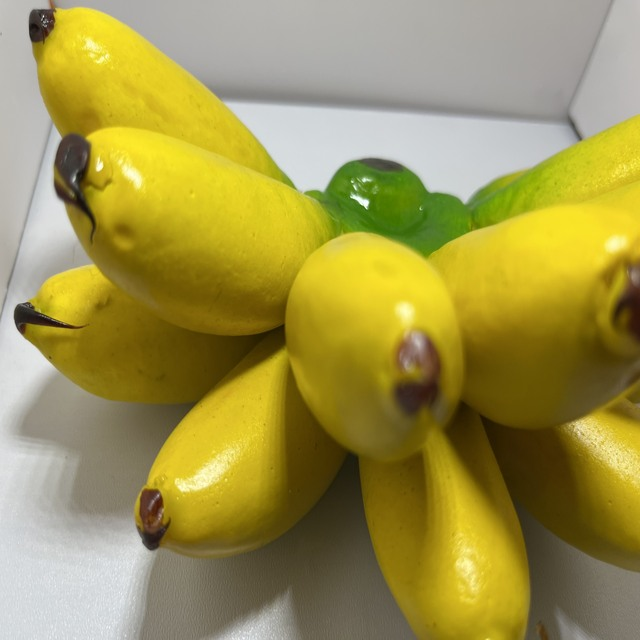Chuoi: (11, 11, 640, 640)
